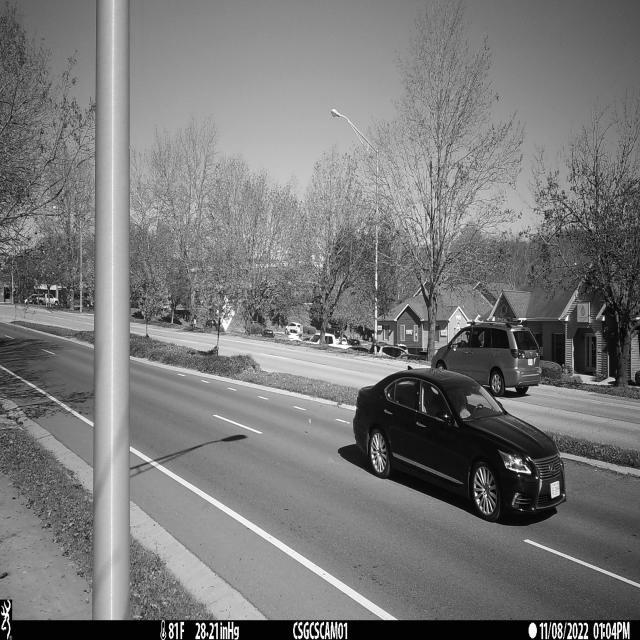Sedan: (353, 369, 567, 526)
